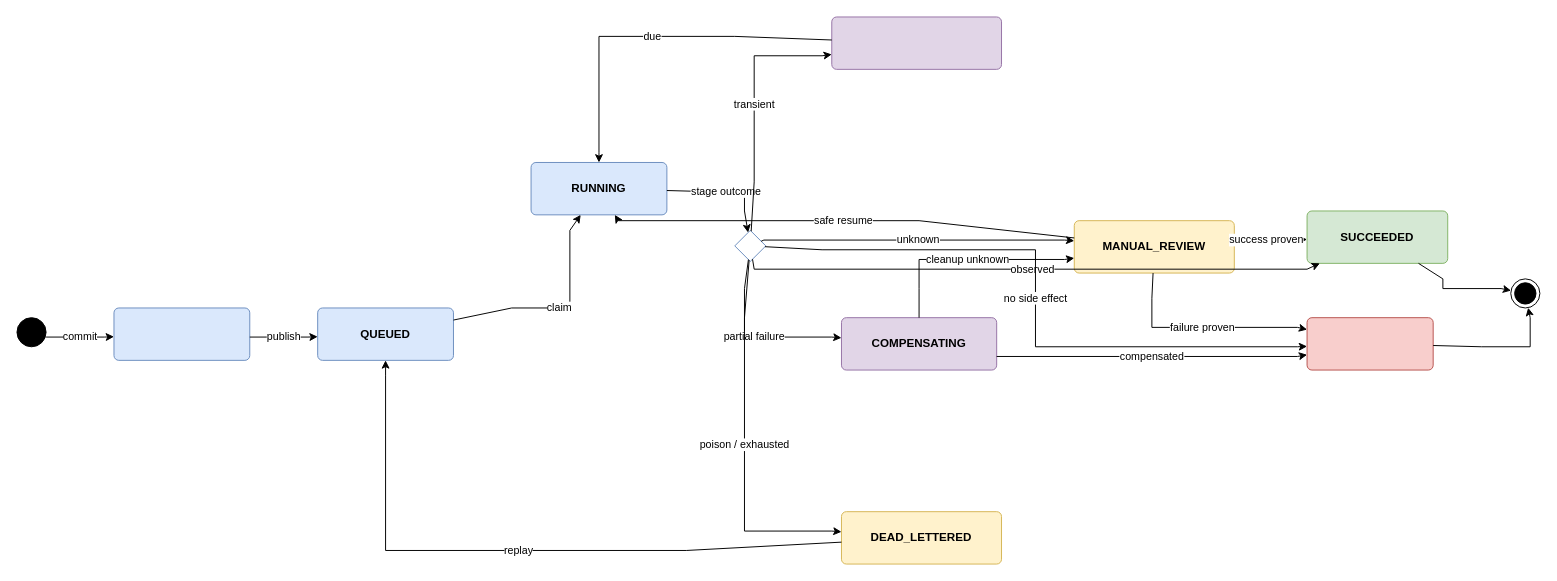
Some shapes in this 1557 by 581 pixel diagram are drawn without their labels. Here are the shapes that lost their labels. From the top down, the centre of each, then its label:
[916,42]: RETRY_SCHEDULED
[181,333]: ACCEPTED
[1369,343]: FAILED
